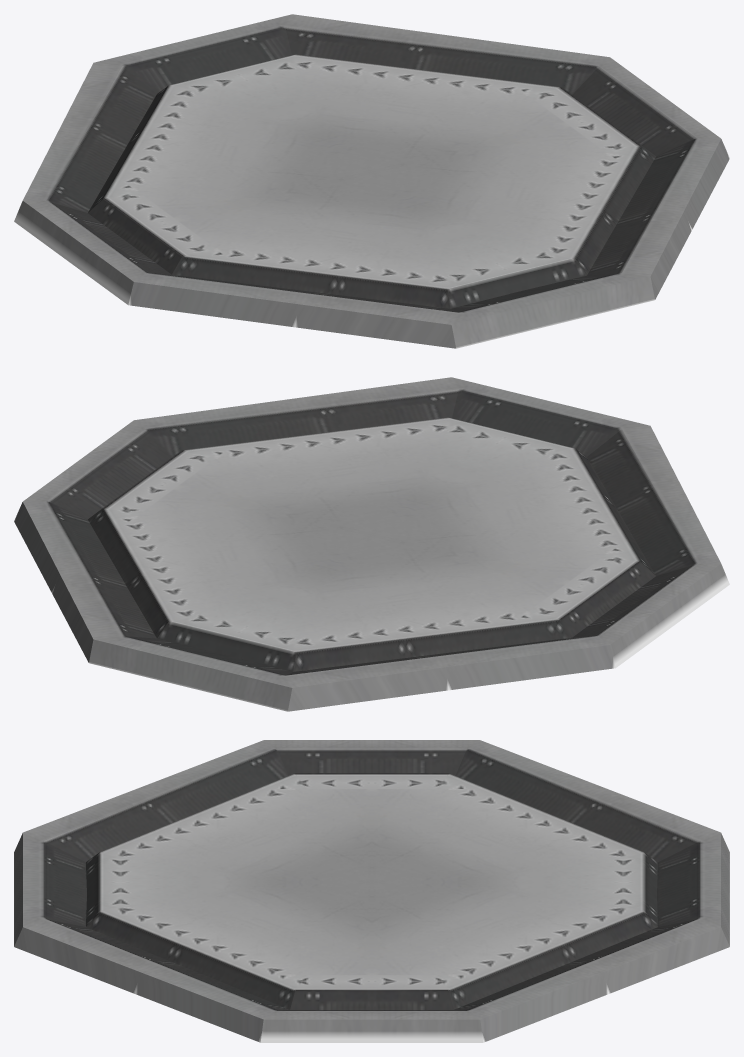
Rendered from road_O.glb.
The picture shows the model from 3 angles, top to bottom: view 1: azimuth 30°, elevation 25°; view 2: azimuth 150°, elevation 25°; view 3: azimuth 270°, elevation 25°; orthographic projection. The views are drawn at different scales.
Parts seen in each view (by area): view 1: Plane.005; view 2: Plane.005; view 3: Plane.005.
Boxes of the visible parts, x1,y1,x2,y2 form: Plane.005: (14, 14, 729, 348); Plane.005: (14, 377, 729, 711); Plane.005: (14, 740, 729, 1042).
Bounding box in the file's own units: 14.19 × 0.4605 × 15.
1 material, 1 textured.
